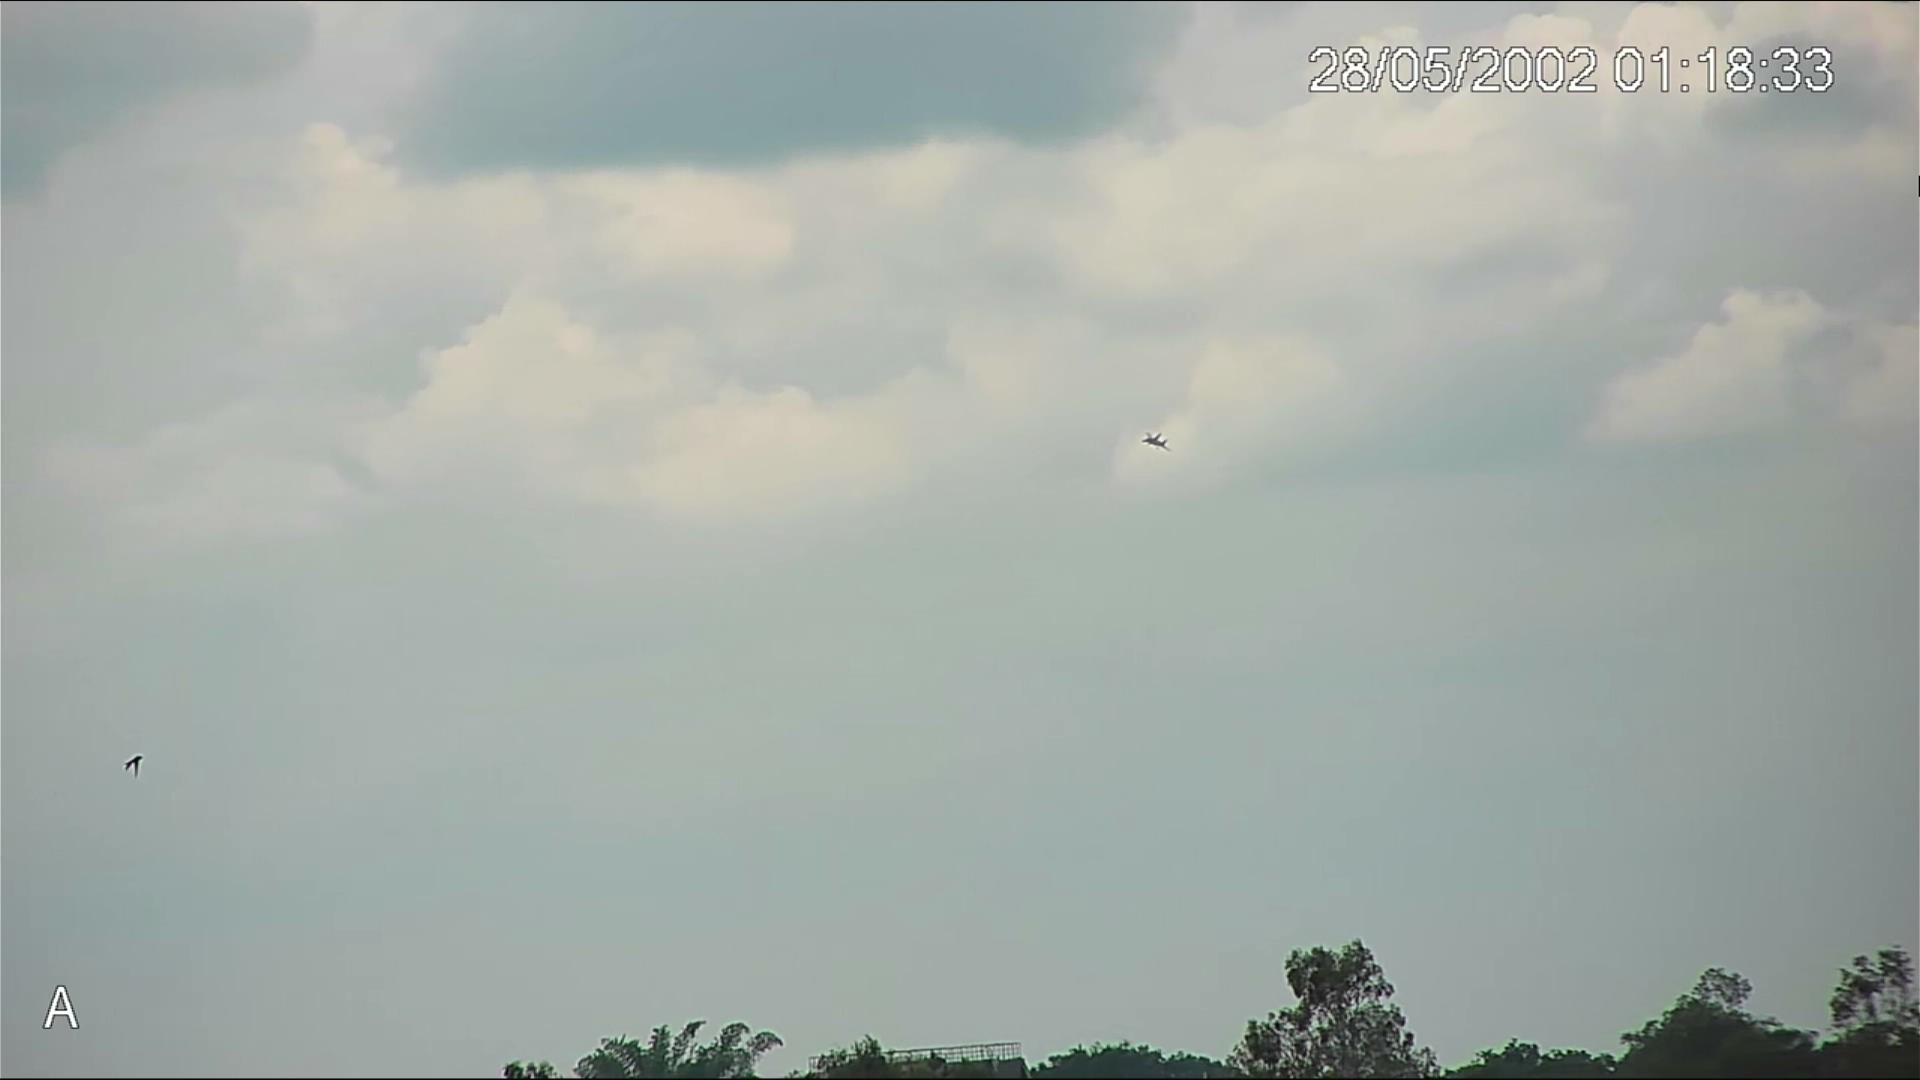SU_30: (1139, 431, 1170, 450)
